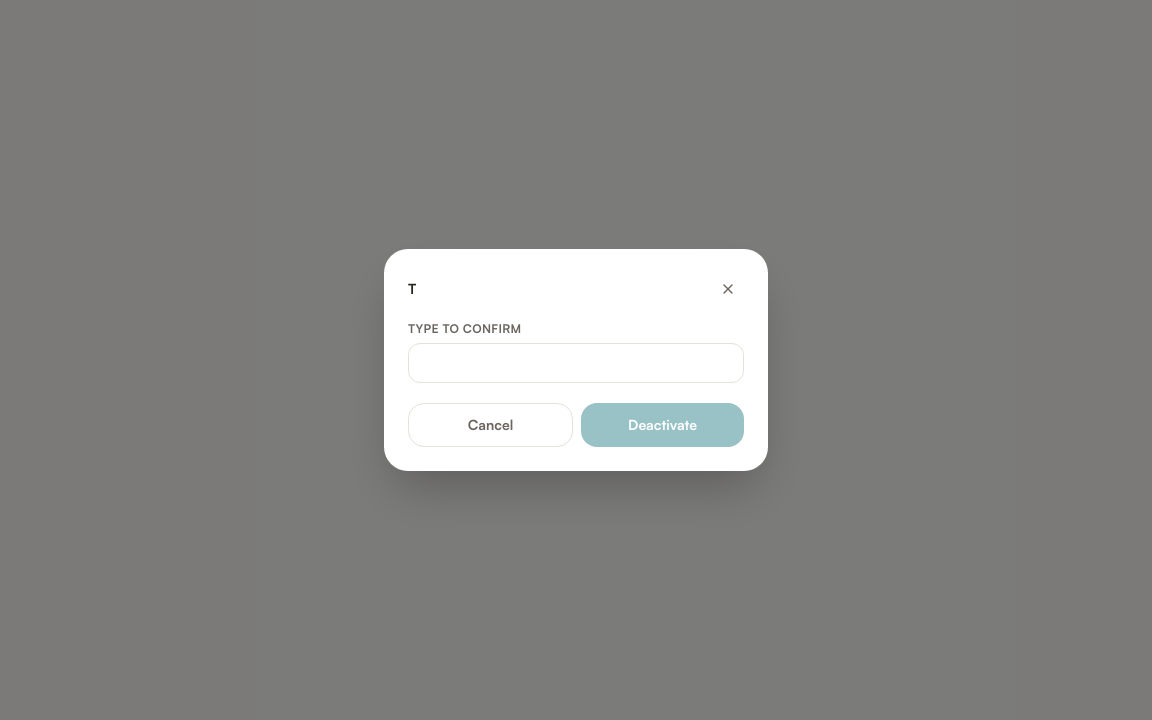
Test: ConfirmDialog — confirmValue (typed confirmation) › confirm button enabled after correct value typed
The image size is (1152, 720).
Type "user@example.com" into the field at (576, 363), box 408,343 -> 744,383
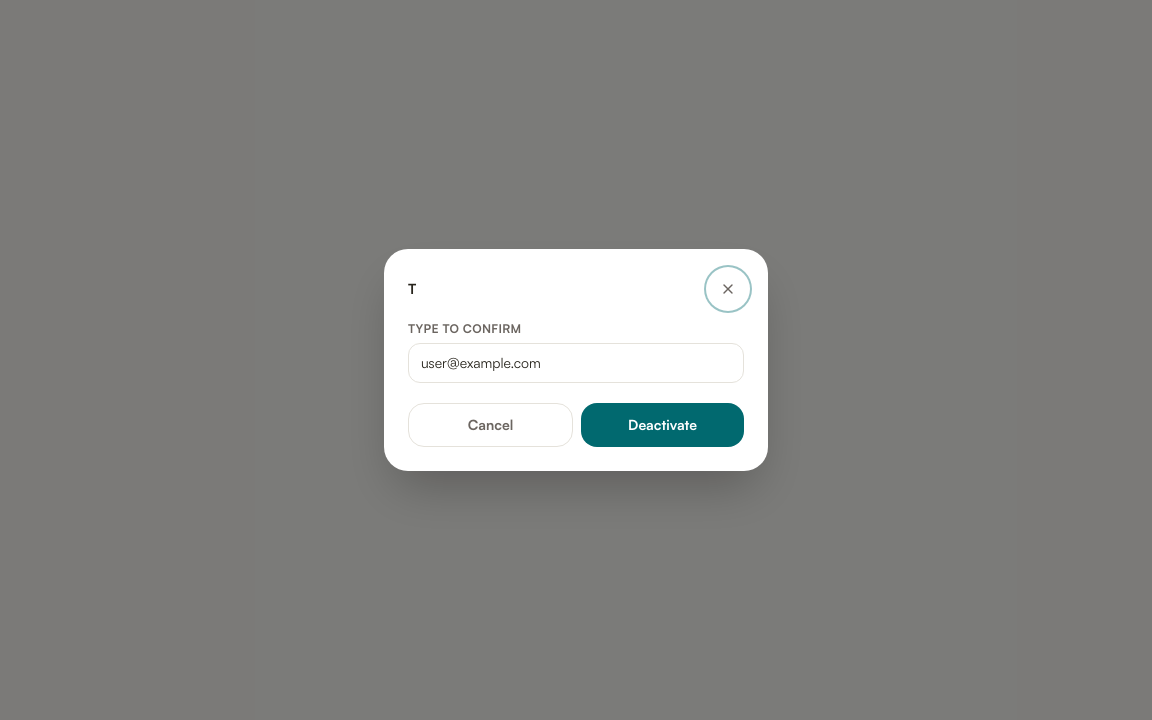
expect the button "Deactivate" is enabled: met, box 581,403 -> 744,447
